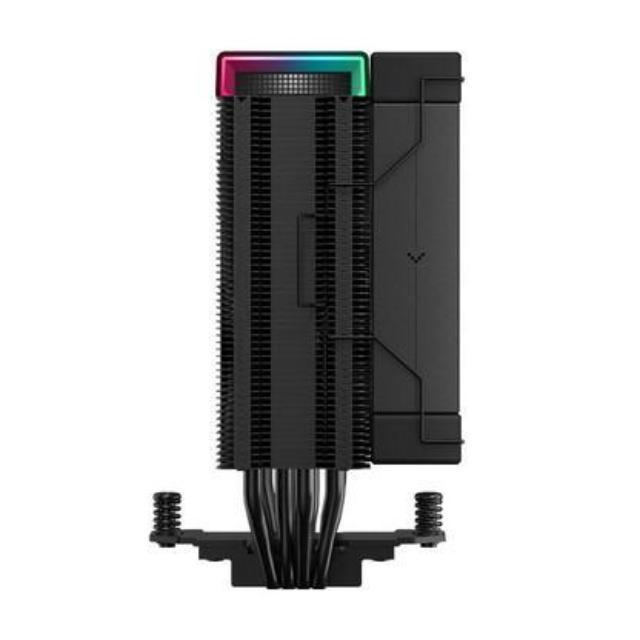CPU_Fan: (146, 46, 471, 598)
